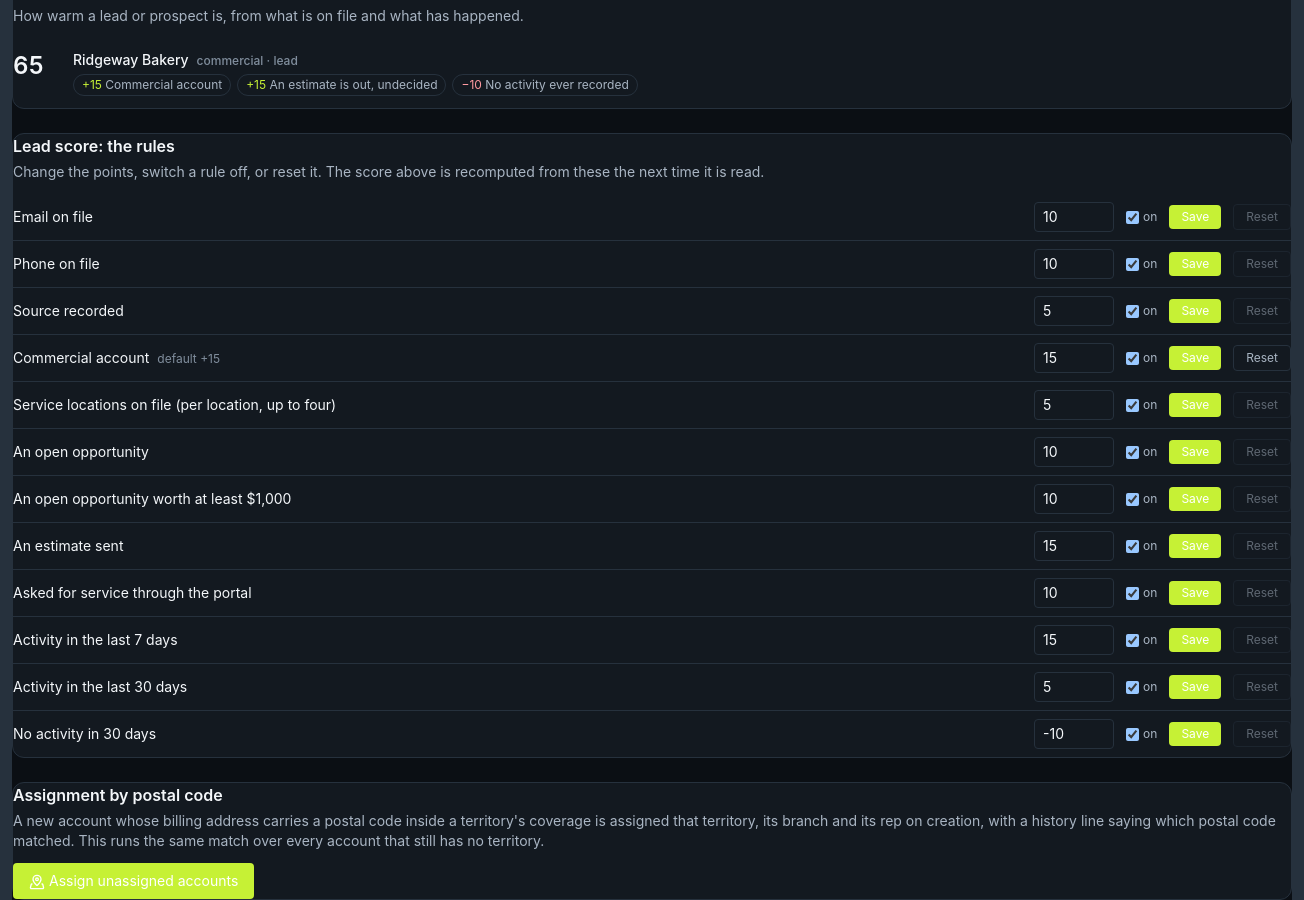
Test: ServicesScoringPanel › runs the postal assignment and repeats the count it was given
(page scrolled)
Expected: the text "Ridgeway Bakery" is shown, [73, 51, 189, 68]
Click the button "Assign unassigned accounts".
click(134, 881)  # box [13, 863, 254, 899]
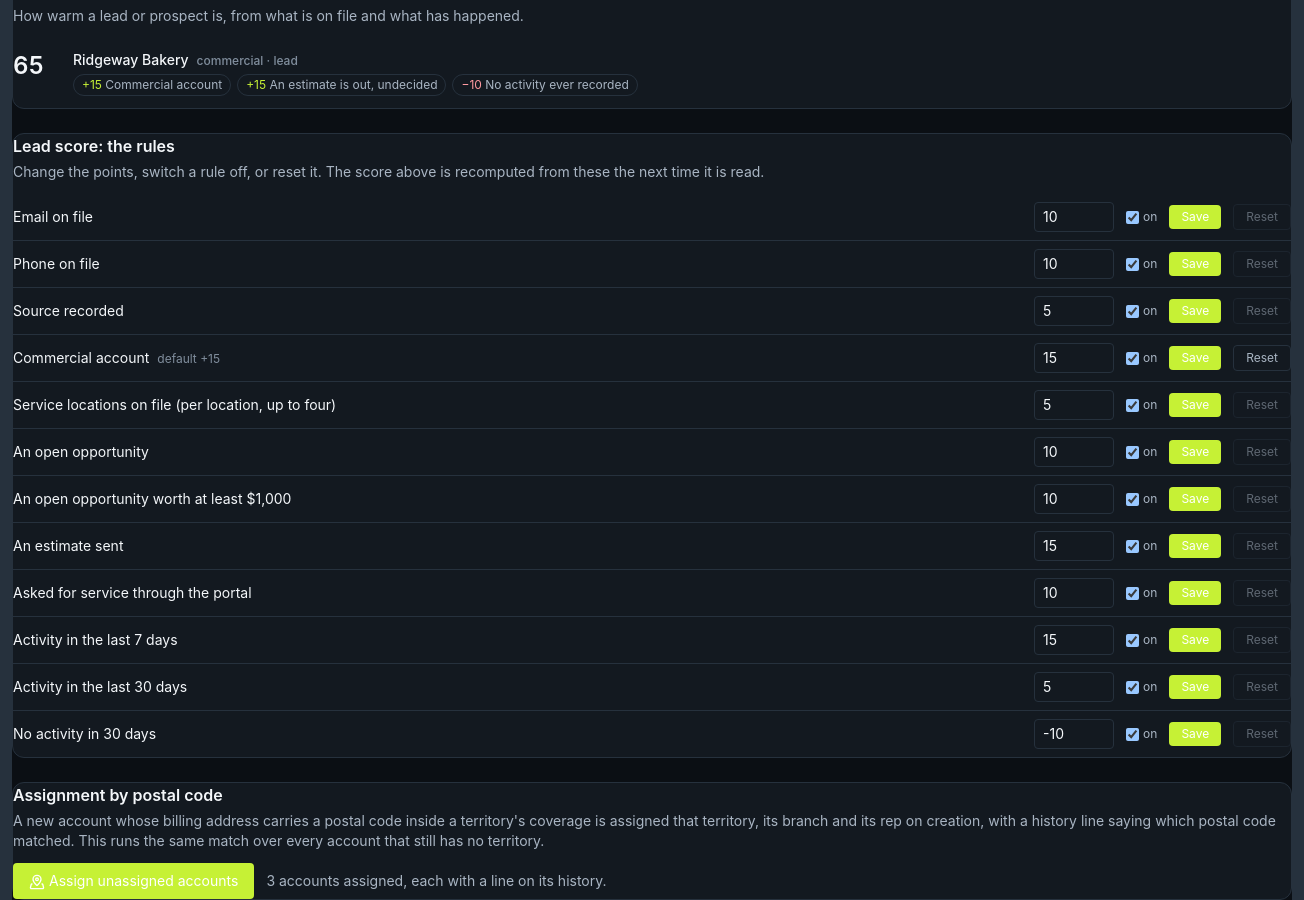
Expected: the message reads "3 accounts assigned, each with a line on its history.", [266, 872, 607, 889]
